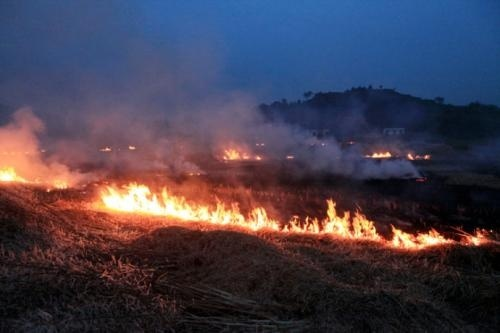fire: (0, 158, 70, 191), (218, 140, 265, 163)
